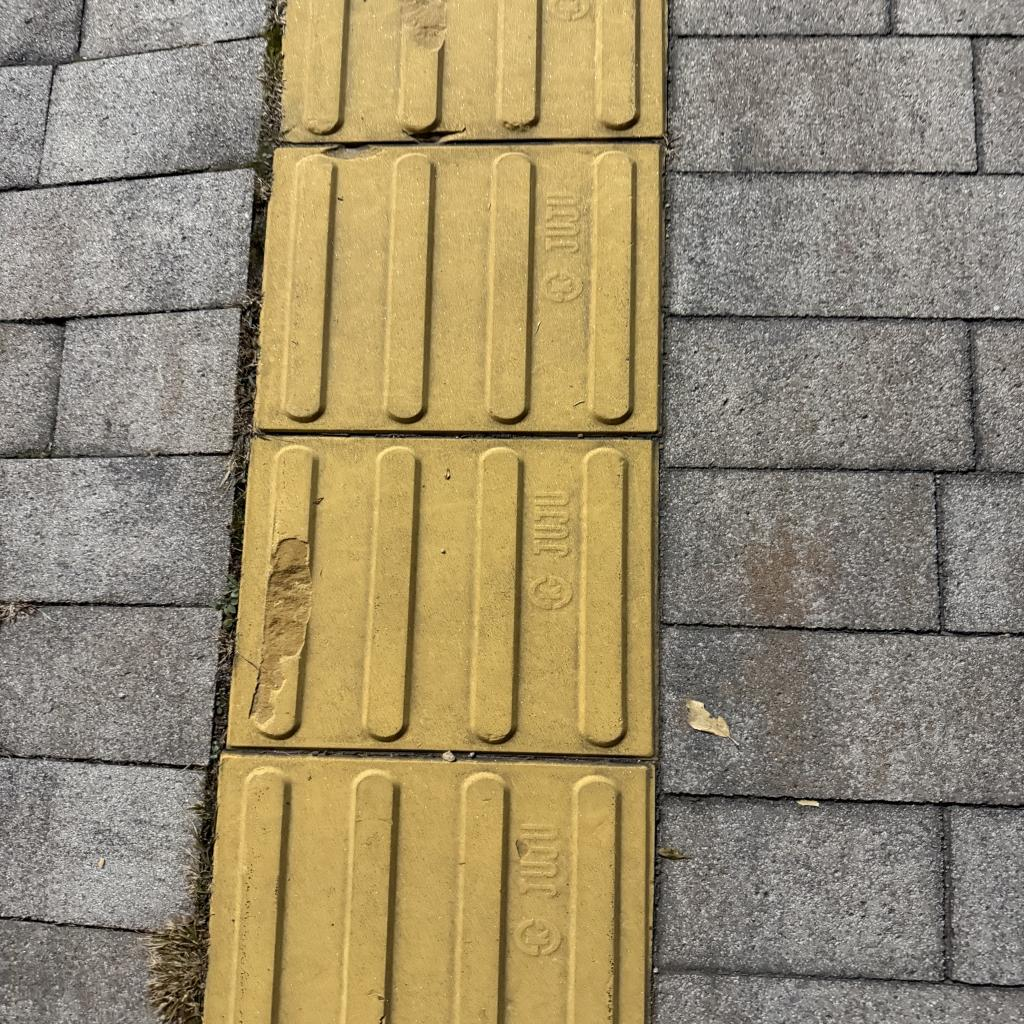Straight block broken: (231, 438, 652, 753)
